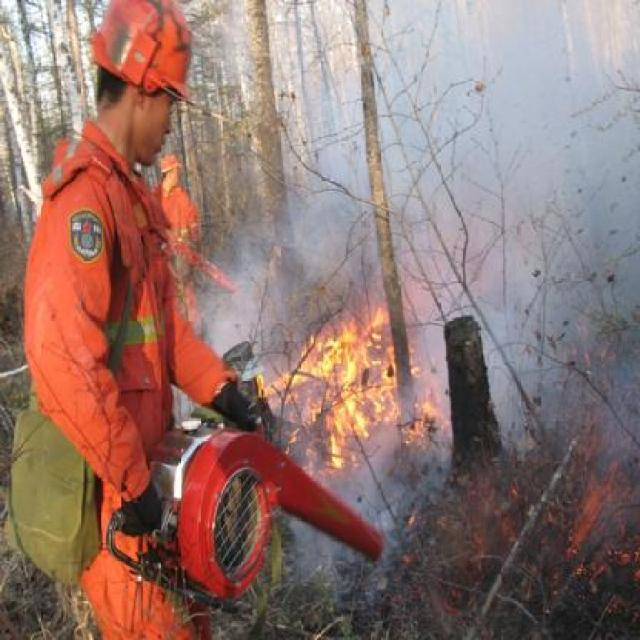Fire: (254, 298, 466, 456), (489, 461, 640, 608)
